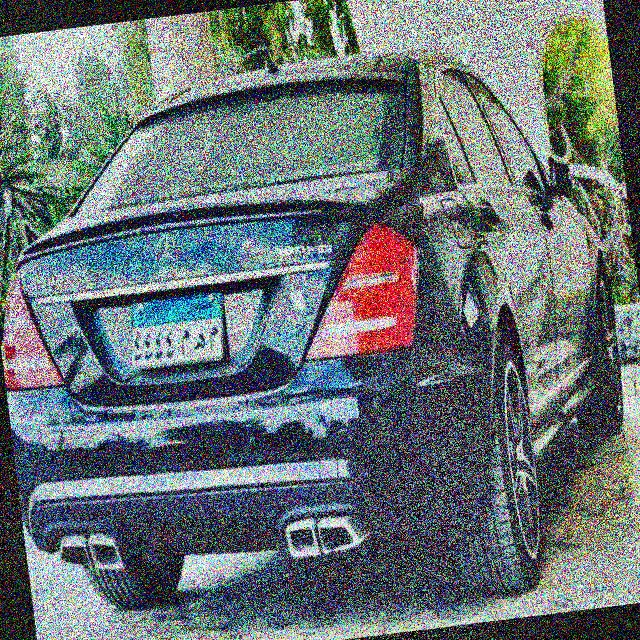License Plate: (118, 284, 236, 381)
